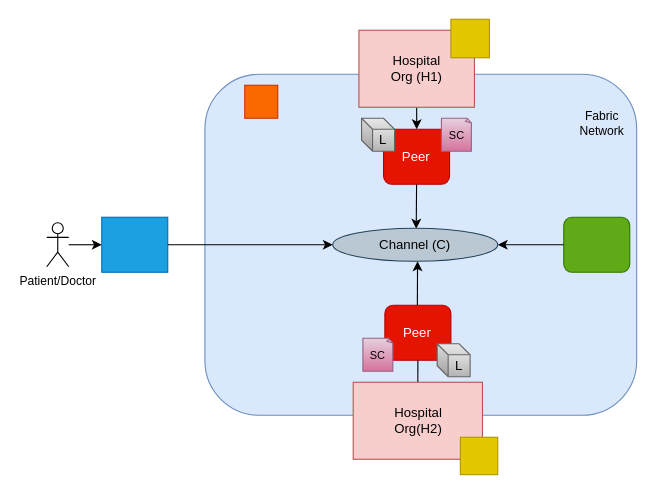
Image size: 656x494. Some labels were removed from this diagram. Each missing label, with the centre of its shape:
App: the point at 134,244
H1 CA: the point at 469,38
H2 CA: the point at 478,455
MSP: the point at 261,101
Orderer: the point at 596,244
